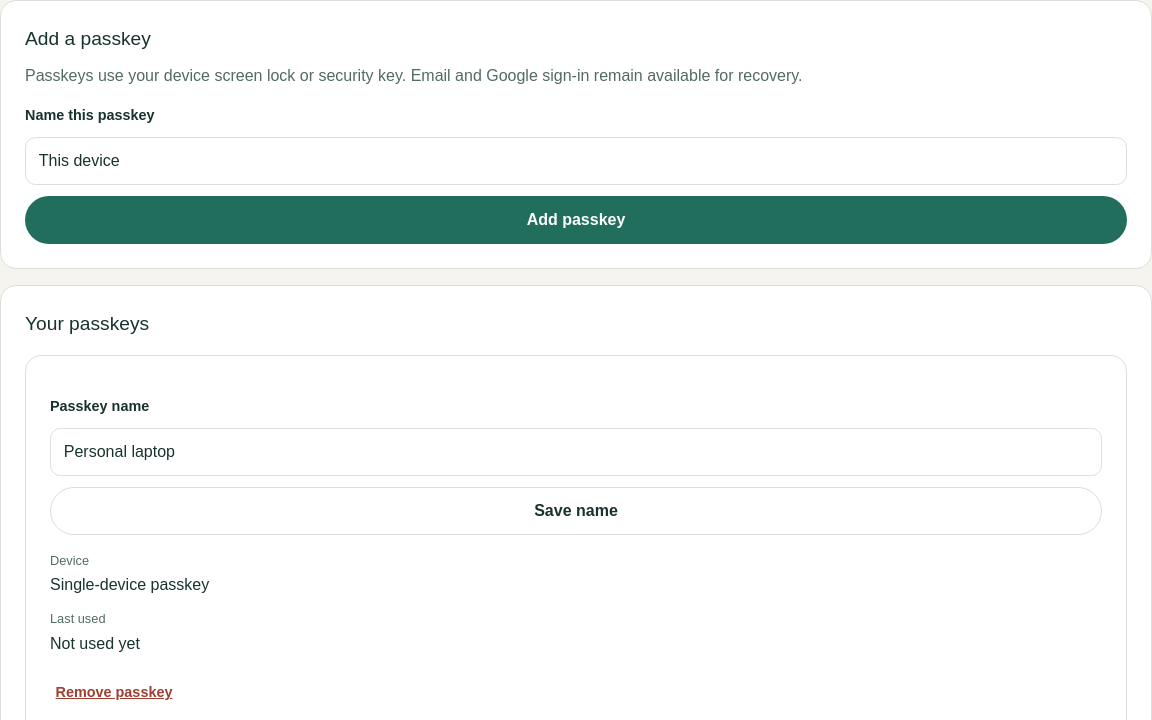
Scenario: passkey account manager › requires an explicit removal confirmation and provides re-authentication fallback
Click the button "Remove passkey" at (114, 693), box top-left (50, 672), bottom-right (178, 713)
(page scrolled)
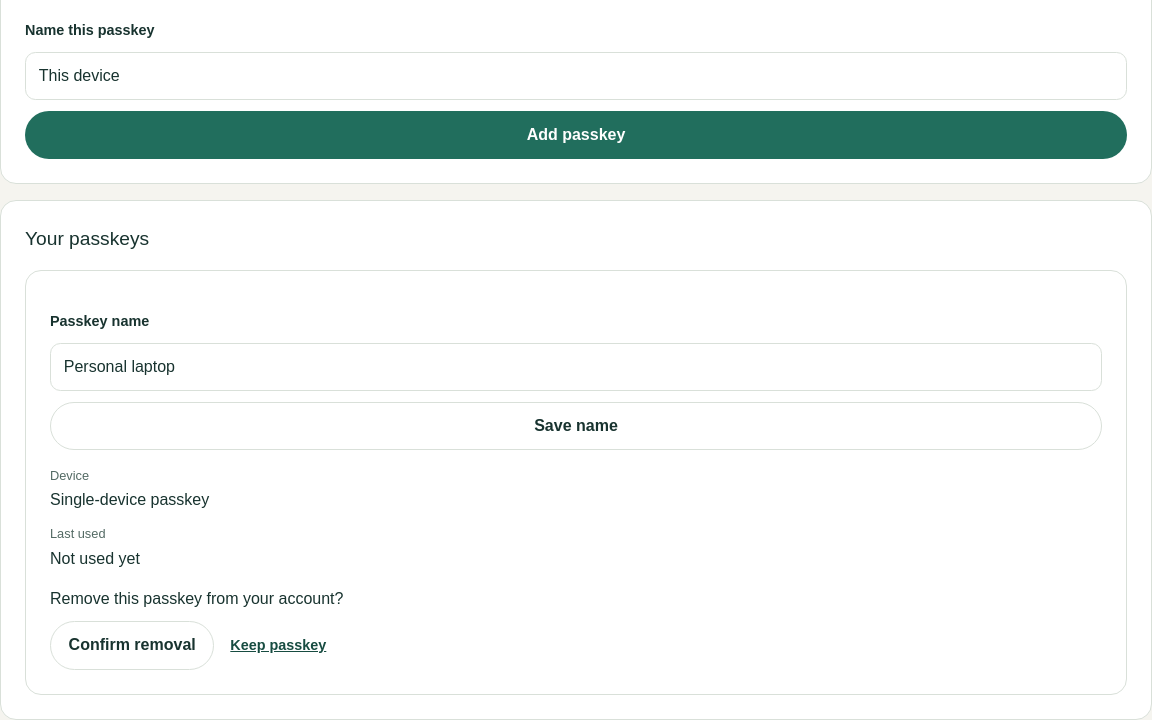
Now the text "Remove this passkey from your account?" is shown, box top-left (50, 590), bottom-right (344, 607)
Click the button "Confirm removal" at (132, 645), box top-left (50, 621), bottom-right (214, 670)
(page scrolled)
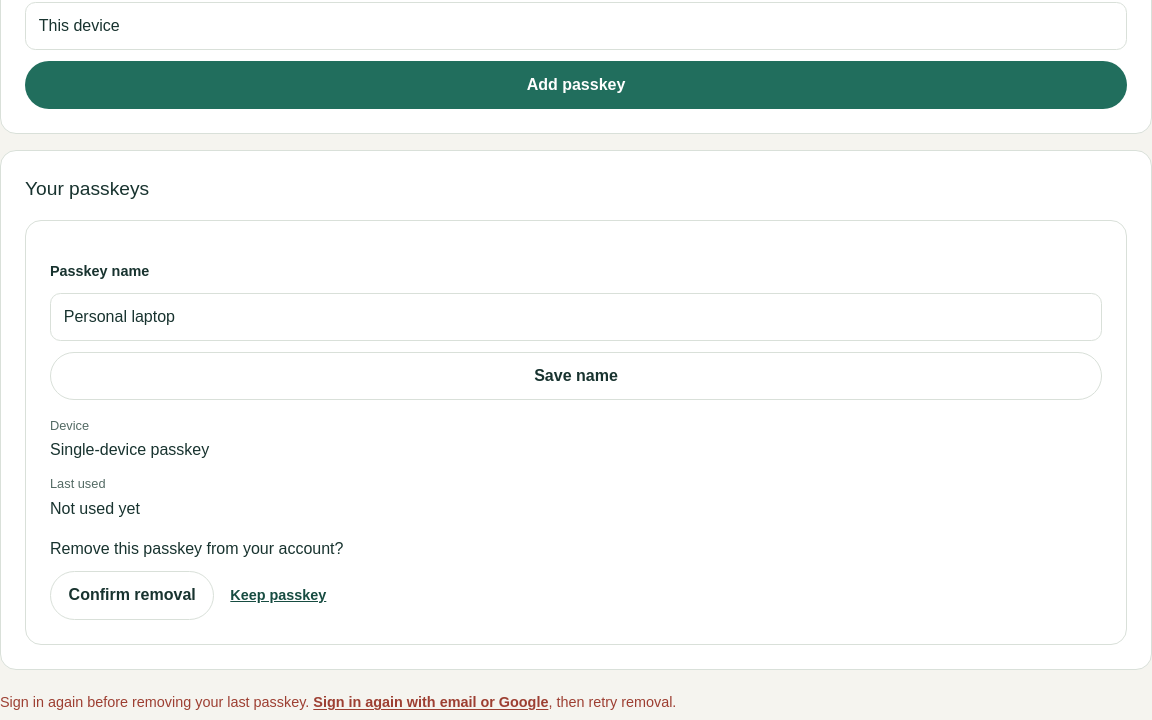
Now the message shows "last passkey", box top-left (0, 694), bottom-right (309, 710)
